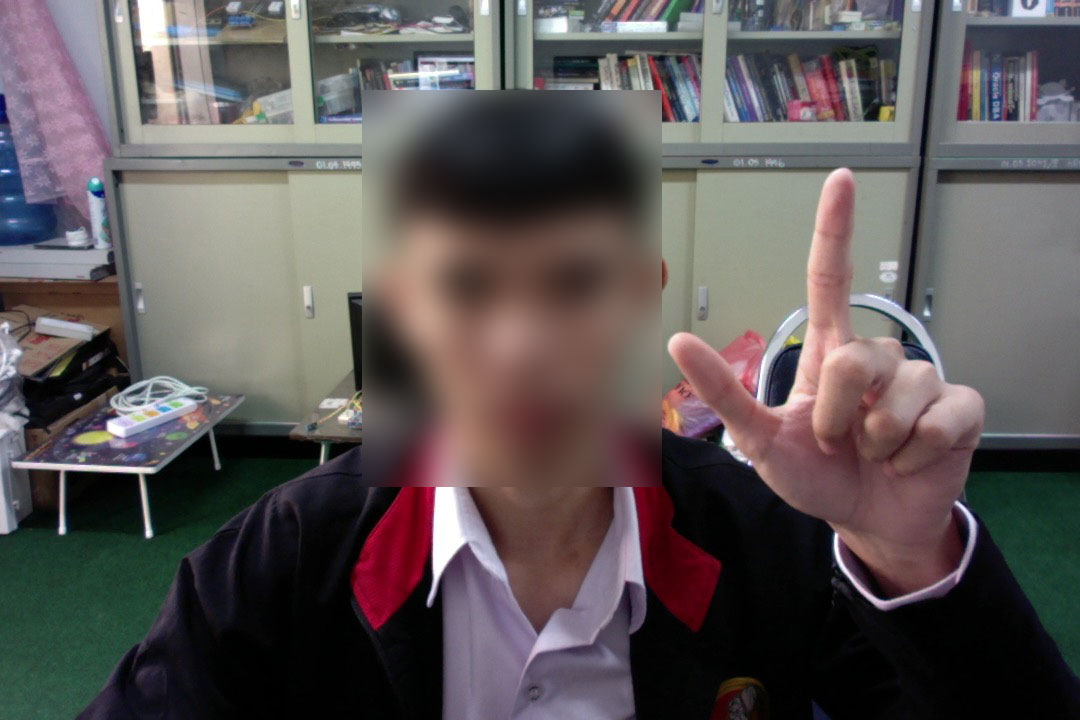lor: (656, 159, 1006, 581)
